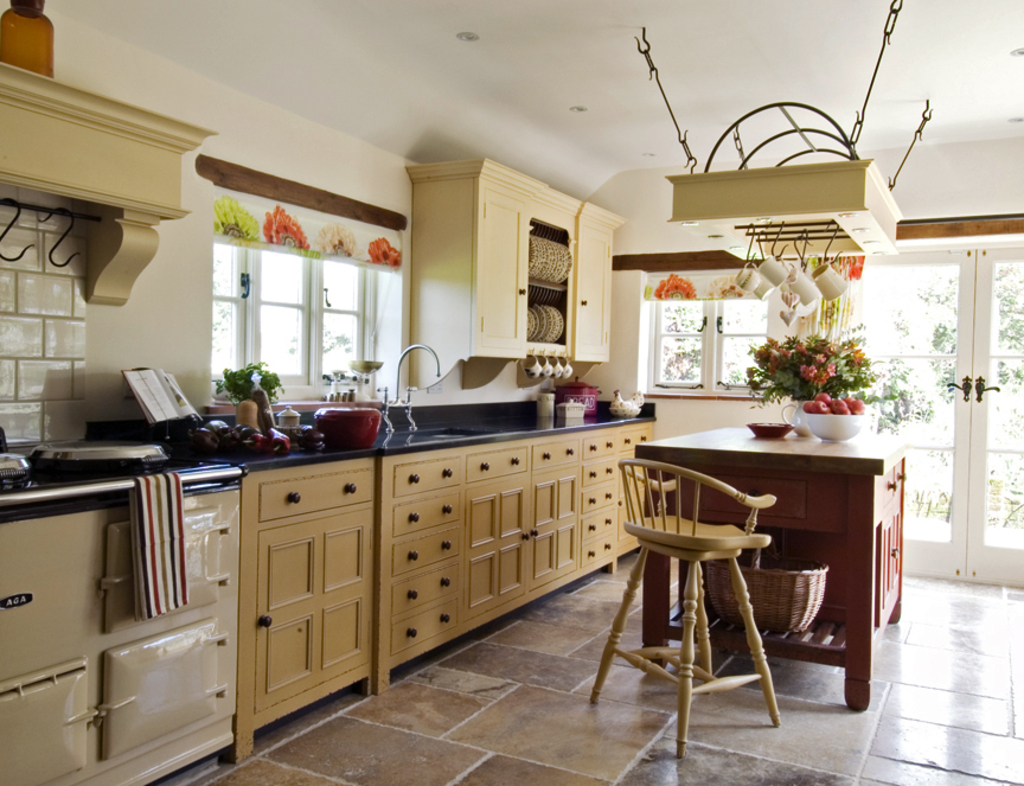Cabinetry: (175, 347, 417, 759), (462, 421, 654, 618), (379, 448, 473, 659), (870, 465, 903, 622)
